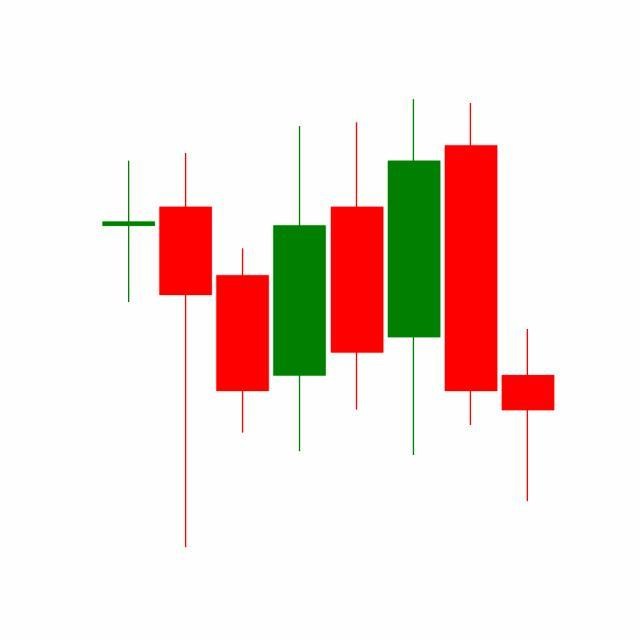Hikkake Pattern: (270, 99, 555, 507)
